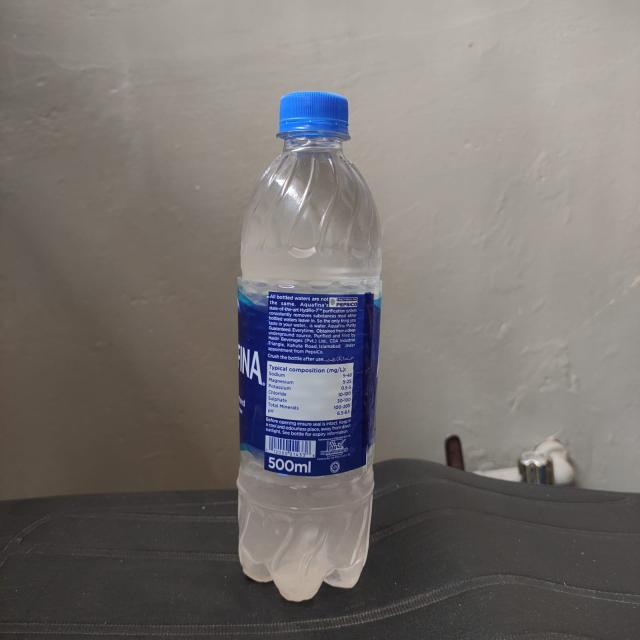bottle: (228, 87, 386, 604)
cap: (275, 89, 355, 150)
label: (240, 291, 382, 473)
